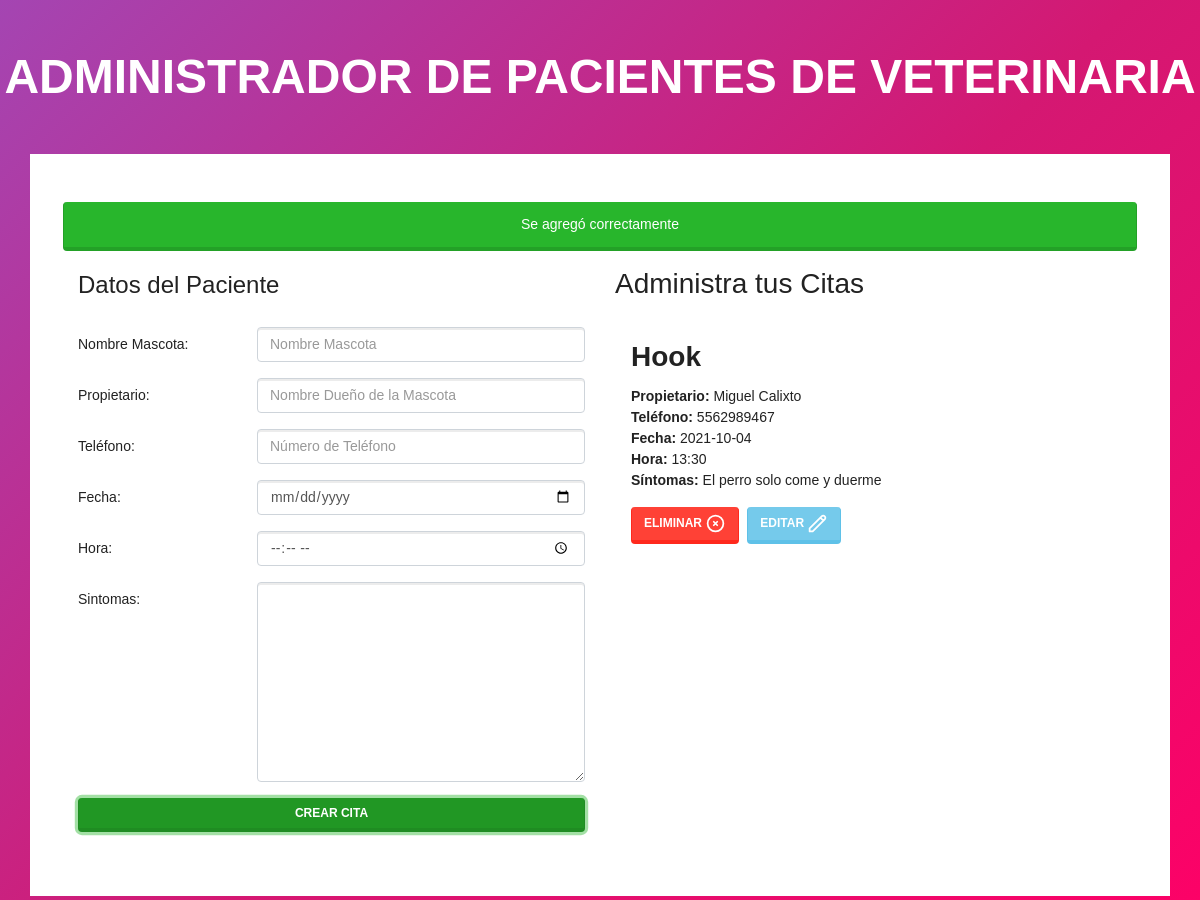
Test case: Llena los campos para una nueva cita y la edita › Edita la cita
Click the button with test id "btn-editar".
click(794, 526)  # box [747,507,841,544]
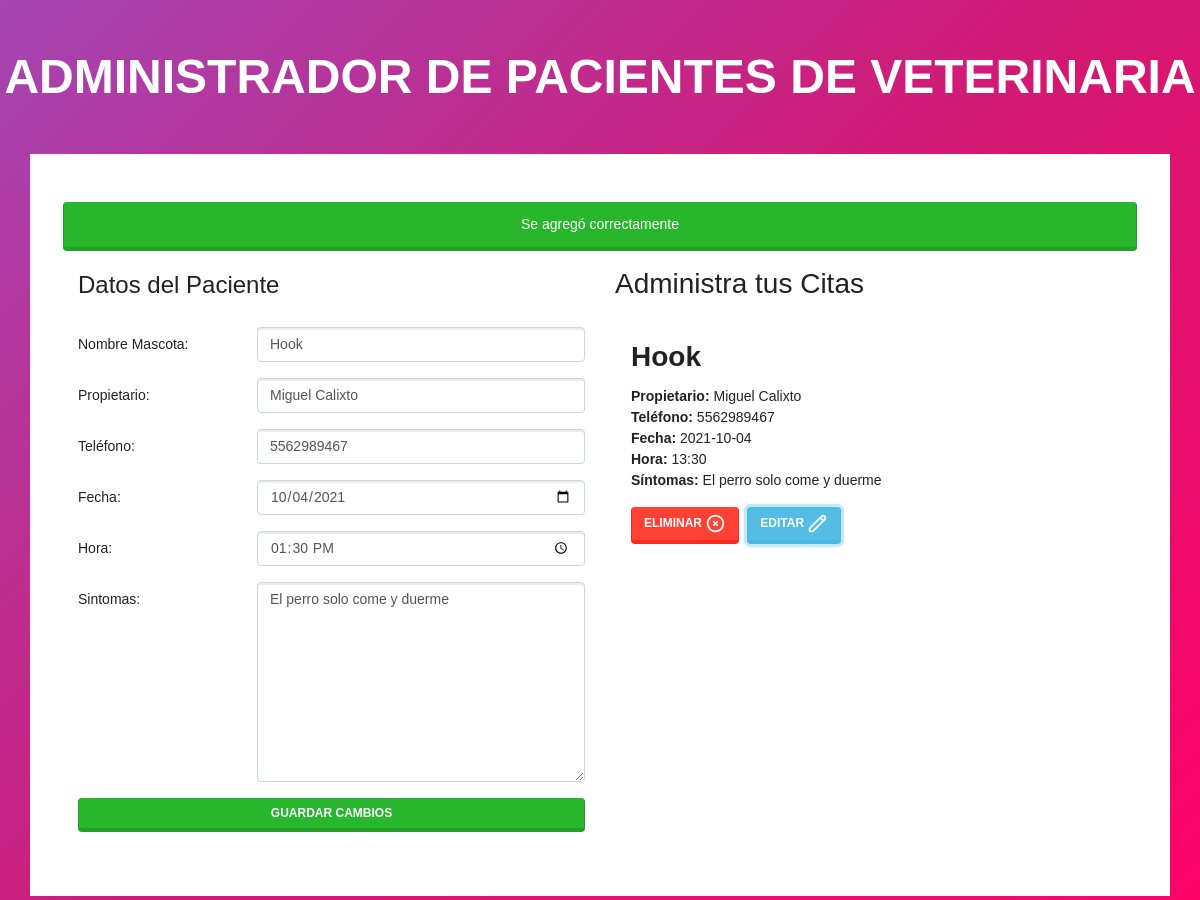
Replace the text in the field with test id "mascota-input" with "Nuevo Hook" at (421, 345), box [257,327,585,362]
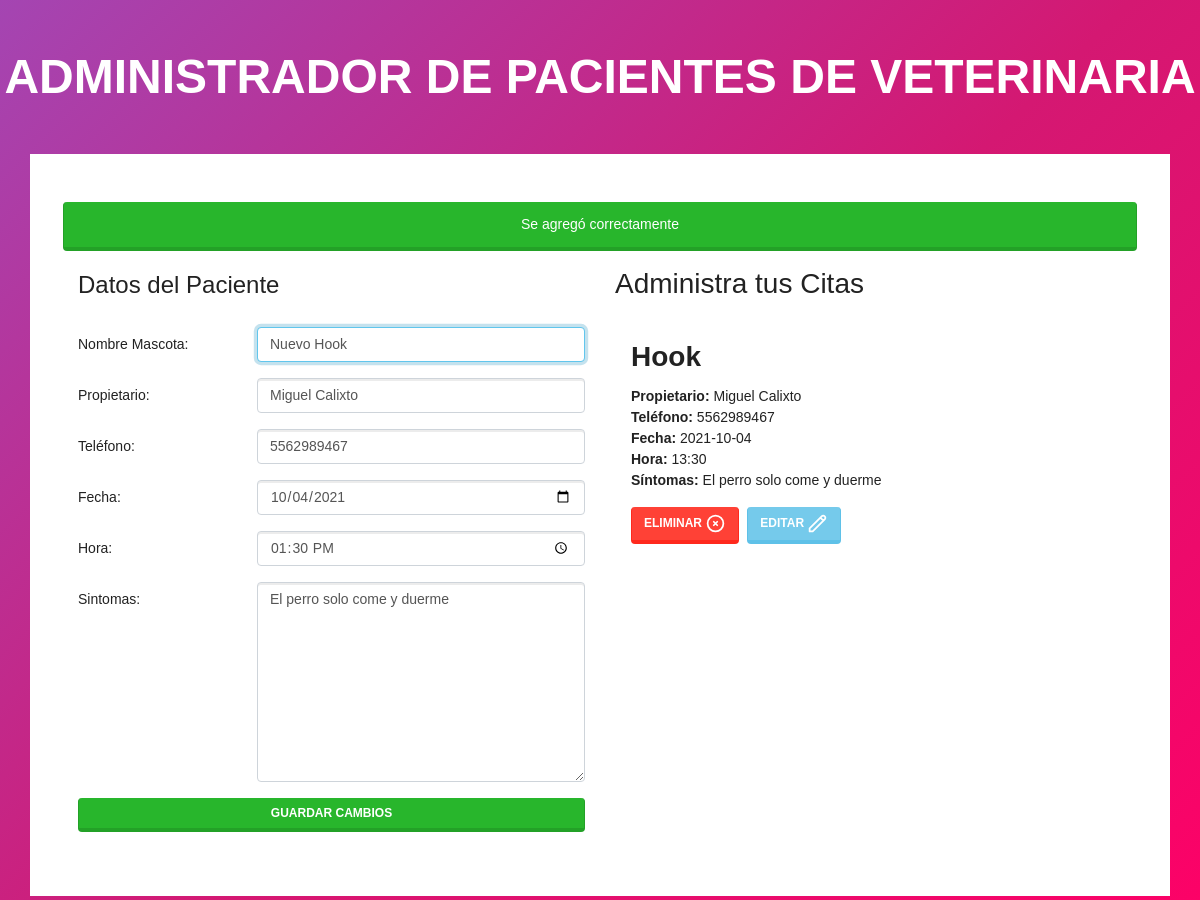
Click the button with test id "submit-cita".
click(332, 815)  # box [78,798,585,832]
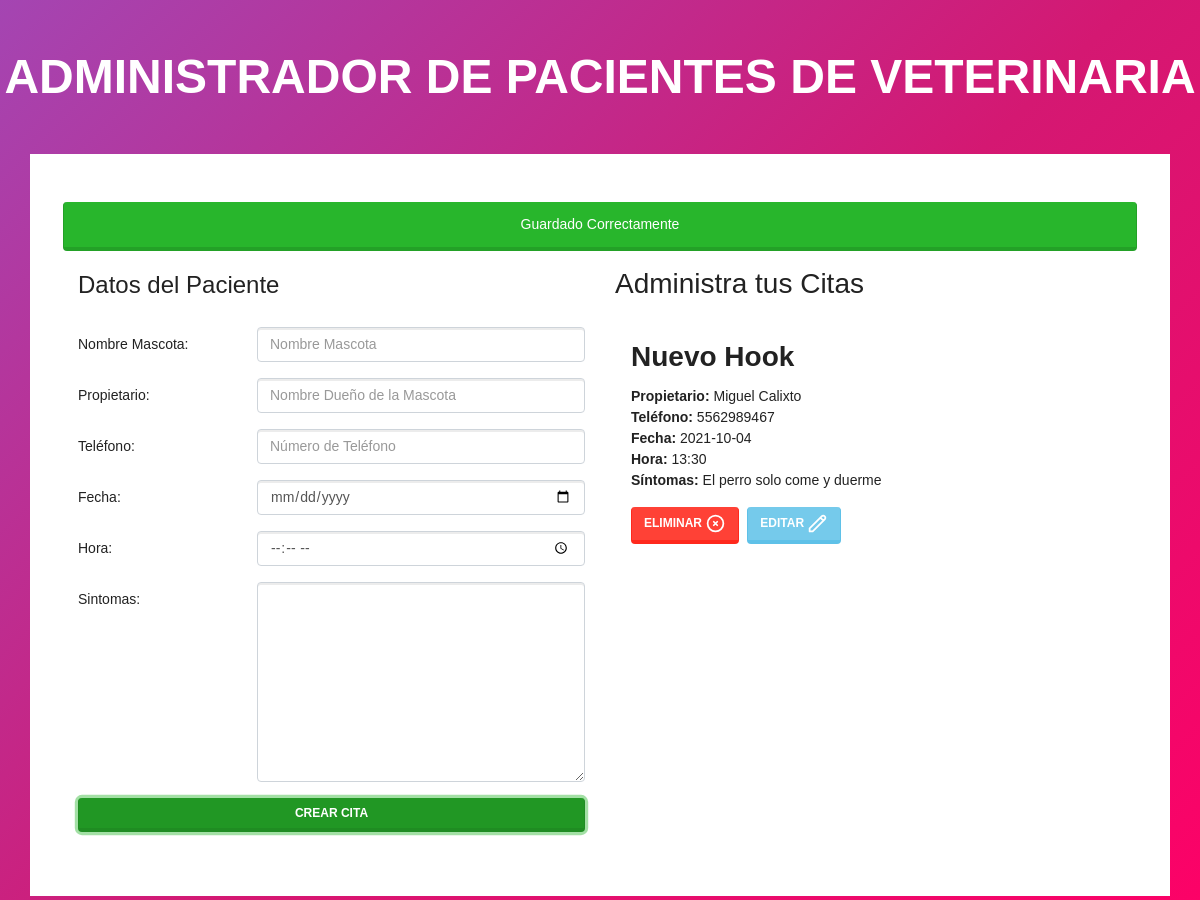
Check: the text with test id "alerta" reads "Guardado Correctamente", box [63,202,1137,251]
